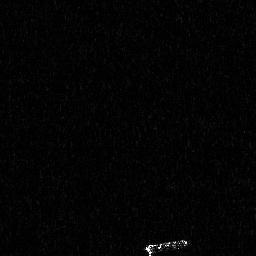ship: (143, 238, 191, 256)
